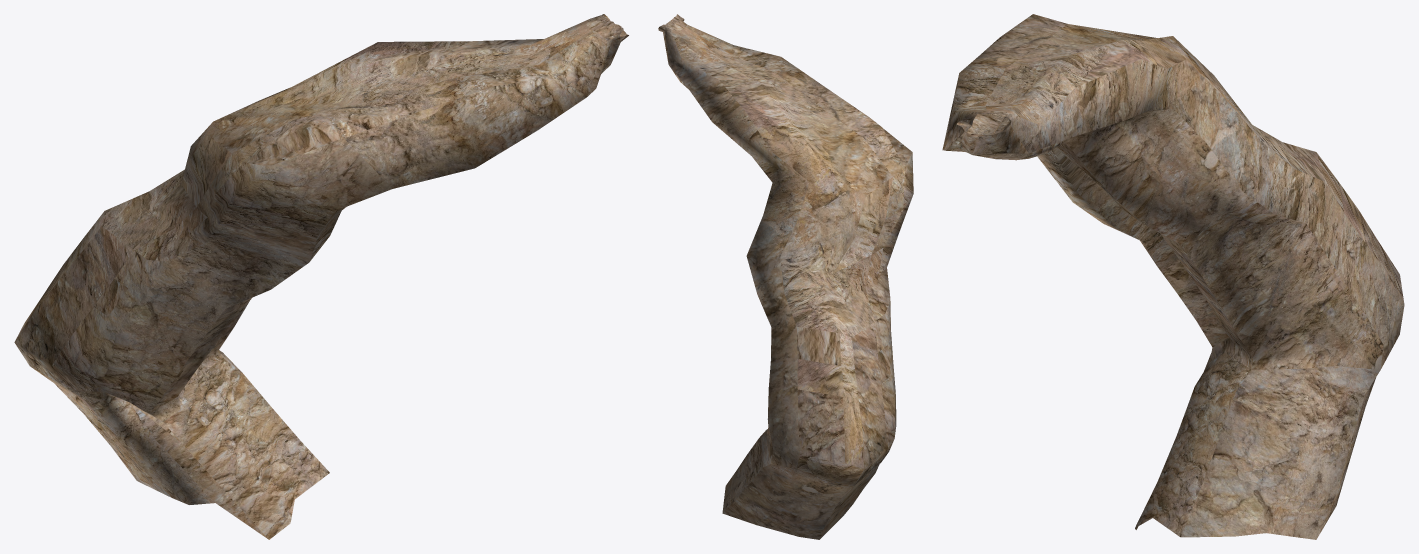
File: entrance.fbx
3 renders of one model, left to right at view 1: azimuth 30°, elevation 25°; view 2: azimuth 150°, elevation 25°; view 3: azimuth 270°, elevation 25°, orthographic. The views are drawn at different scales.
Visible parts, largest first — view 1: EntranceRootObj; view 2: EntranceRootObj; view 3: EntranceRootObj.
Part boxes in pixels (box(x1,y1,x2,y2)): EntranceRootObj: box(14, 14, 628, 539); EntranceRootObj: box(658, 14, 913, 539); EntranceRootObj: box(942, 14, 1404, 539).
Size of what is drawn, in the model's own units: 311 by 343 by 252.
1 material, 1 textured.
